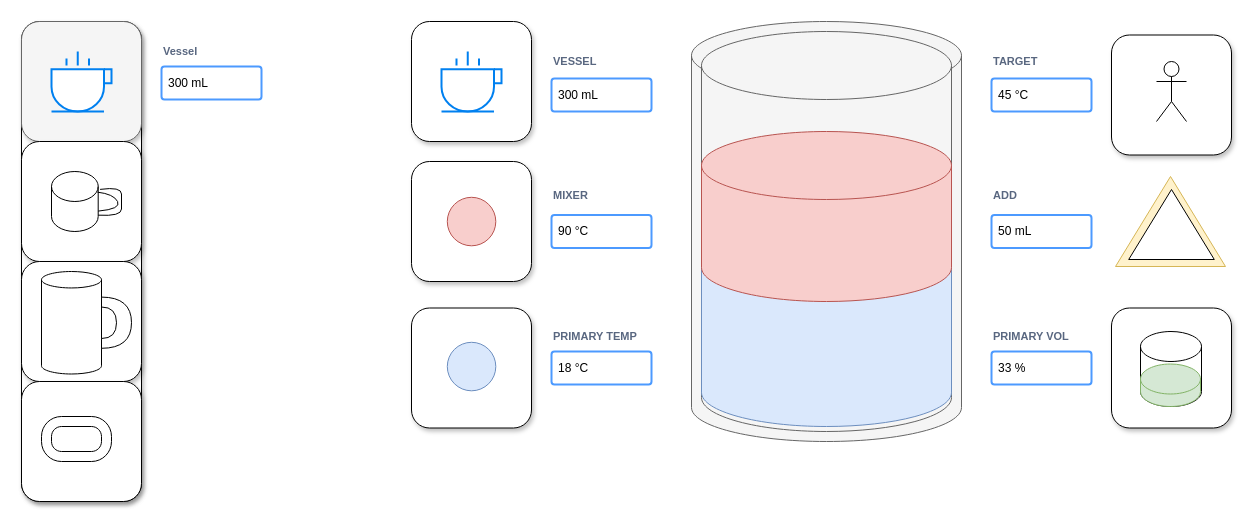
This 1255x526 diagram has some shape labels left out. Here are the shapes that lost their labels. From the top down, the centre of each, then its label:
At (1171,91): "Actor".
At (1171,224): "!!! Overflow".
